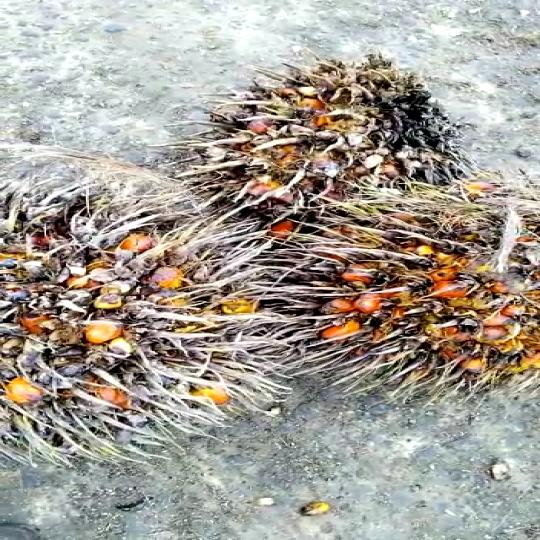terlalu masak: (302, 167, 540, 409), (202, 51, 463, 219)
